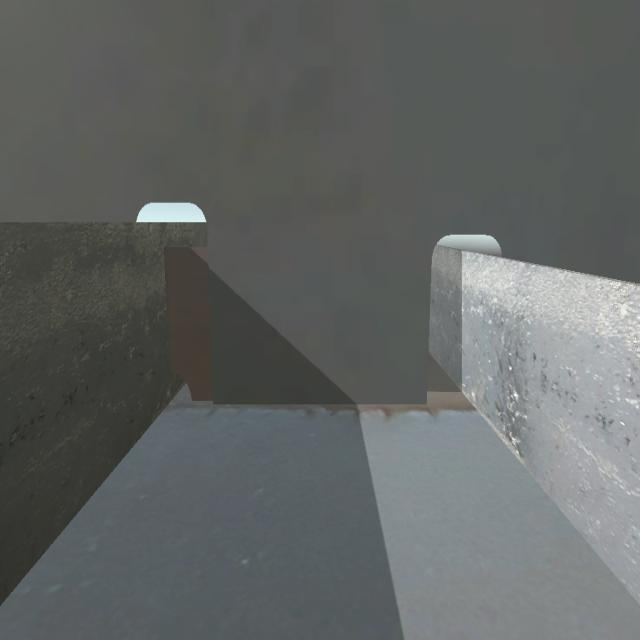fillet_hole: (164, 374, 194, 410)
fillet_yong_jeop_jang: (199, 396, 429, 406)
longi_yong_jeop_jang: (164, 248, 173, 370)
plate_behind: (169, 245, 208, 404)
